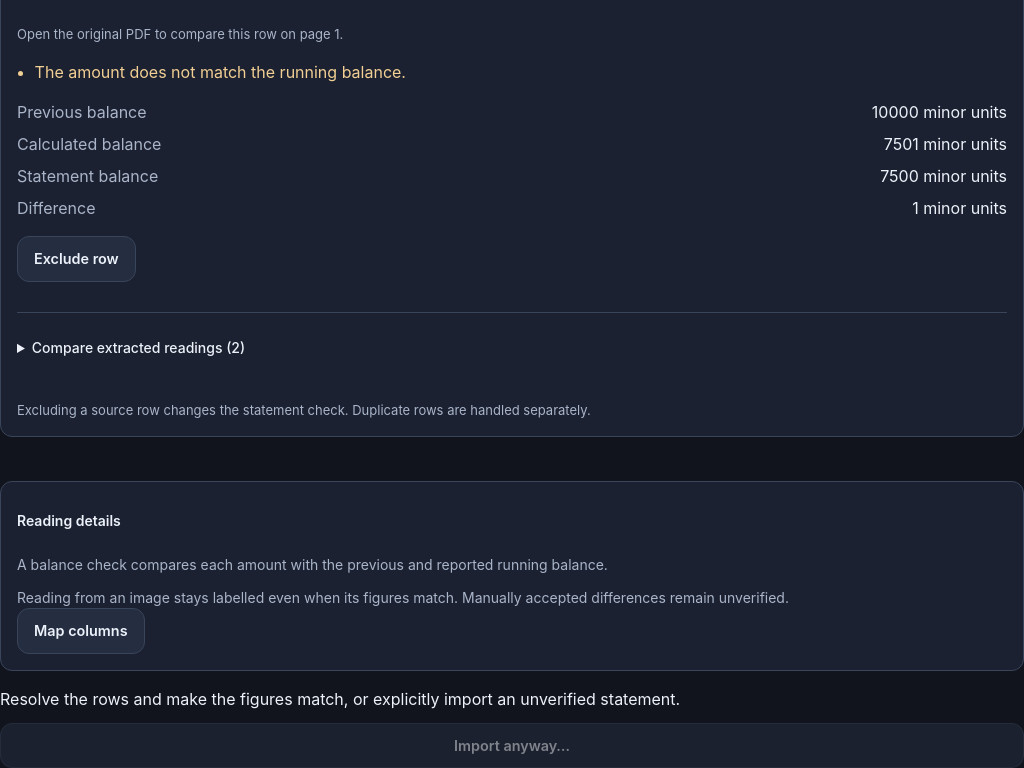
Scenario: generic PDF evidence review › keeps column samples accessible when metadata cannot yet produce a parsed statement
(page scrolled)
Click the button "Map columns" at (81, 631), box x1=17 y1=608 x2=144 y2=654
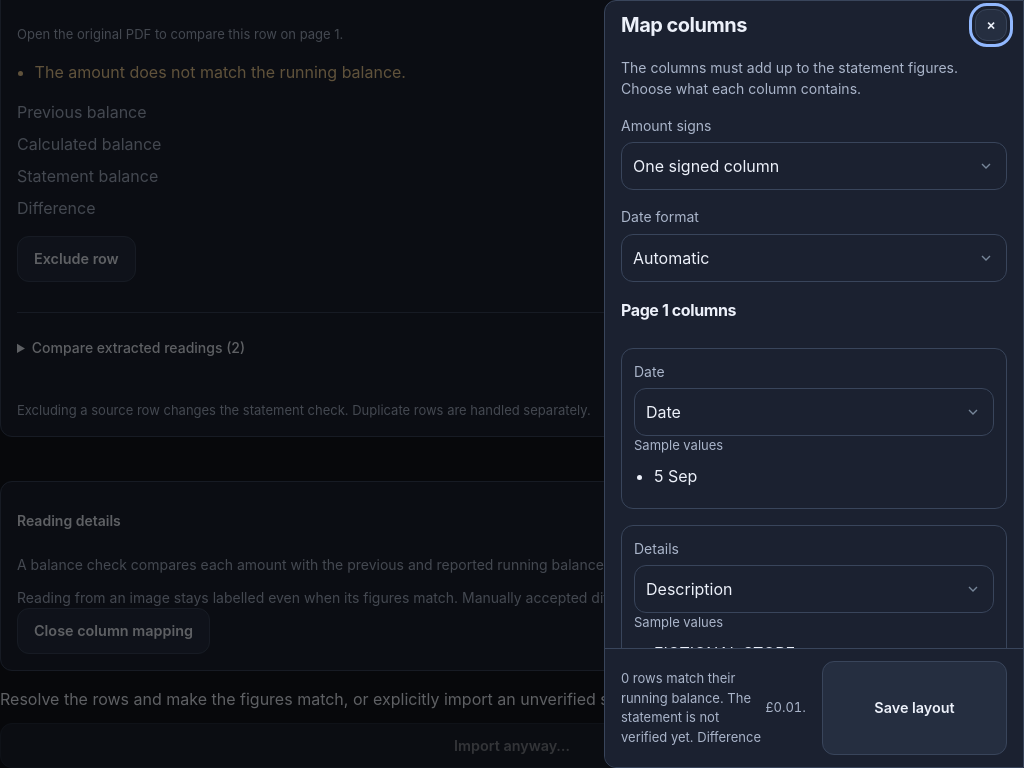
Check: the button "Import anyway…" is disabled, box x1=0 y1=723 x2=1023 y2=767
Check: the list item "5 Sep" is shown, box x1=654 y1=466 x2=697 y2=486
